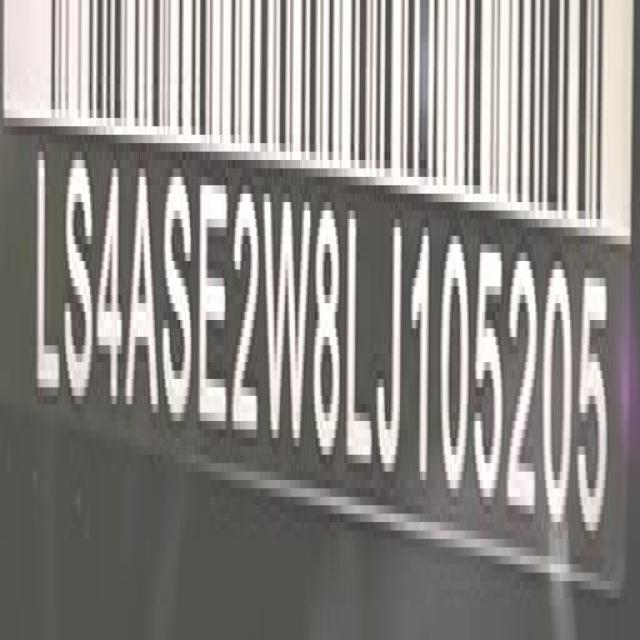0: (441, 208, 473, 509), (544, 240, 576, 536)
1: (409, 194, 436, 498)
2: (509, 226, 542, 525), (232, 167, 261, 450)
4: (97, 136, 127, 420)
5: (474, 212, 506, 516), (578, 259, 612, 540)
8: (312, 184, 342, 471)
A: (127, 146, 164, 427)
E: (198, 162, 230, 442)
J: (374, 189, 404, 502)
L: (347, 191, 373, 479), (34, 138, 61, 401)
S: (162, 172, 195, 435), (64, 152, 94, 409)
W: (266, 168, 314, 465)
